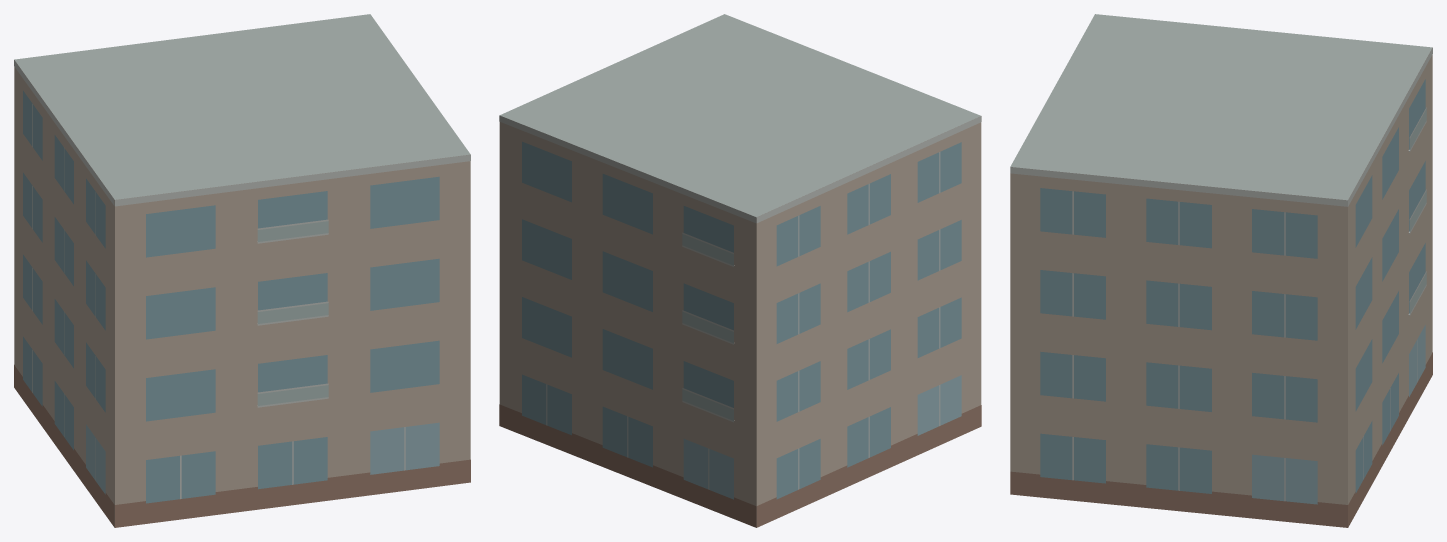
Rendered from residential-51f721d4-b9eb-4000-a8b8-c749f7b1b6ef.glb.
The picture shows the model from 3 angles, left to right: view 1: azimuth 30°, elevation 25°; view 2: azimuth 150°, elevation 25°; view 3: azimuth 270°, elevation 25°; orthographic projection. The views are drawn at different scales.
Visible parts, largest first — view 1: residential-51f721d4-b9eb-4000-a8b8-c749f7b1b6ef.tmp; view 2: residential-51f721d4-b9eb-4000-a8b8-c749f7b1b6ef.tmp; view 3: residential-51f721d4-b9eb-4000-a8b8-c749f7b1b6ef.tmp.
Boxes of the visible parts, x1,y1,x2,y2 form: residential-51f721d4-b9eb-4000-a8b8-c749f7b1b6ef.tmp: (14, 14, 470, 527); residential-51f721d4-b9eb-4000-a8b8-c749f7b1b6ef.tmp: (499, 14, 981, 527); residential-51f721d4-b9eb-4000-a8b8-c749f7b1b6ef.tmp: (1010, 14, 1432, 527).
Bounding box in the file's own units: 14.89 × 12.2 × 14.27.
